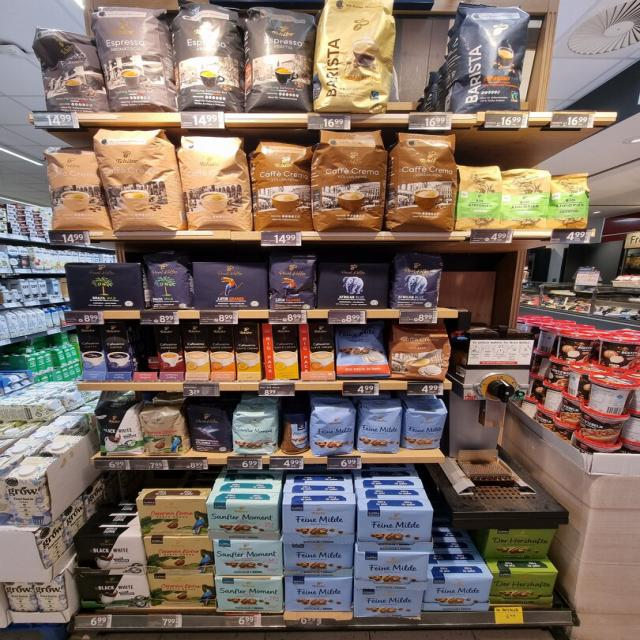AB Bohne: (392, 252, 442, 310)
AB Gemahlen: (317, 262, 393, 310)
Athiopien Bohne: (551, 172, 593, 230)
Athiopien Gemahlen: (500, 166, 550, 232), (457, 163, 501, 236)
BM Bohne: (142, 249, 194, 311)
BM Gemahlen: (63, 262, 145, 310)
BW Bohne: (92, 407, 145, 457)
BW Gemahlen: (73, 571, 153, 610), (72, 536, 148, 571)
Barista CB: (312, 0, 398, 116)
Barista Espresso: (452, 3, 532, 113)
C Fino Bohne: (183, 408, 232, 456)
CC Mild: (86, 129, 187, 232), (173, 133, 255, 233), (44, 144, 112, 232)
CC Vollmundig: (387, 323, 454, 382)
CC Vollmundig 36 Pads: (312, 130, 388, 234), (386, 130, 458, 234), (247, 141, 315, 234)
Colombia BB Bohne: (136, 408, 190, 458)
Colombia BB Gemahlen: (135, 498, 209, 536), (141, 536, 213, 574), (146, 573, 217, 608)
Empty Shelf: (130, 326, 161, 381)
Espresso Aromatisch: (88, 5, 178, 114)
Espresso Kraftig: (170, 1, 244, 112), (241, 6, 315, 114)
FM 36 Pads: (336, 327, 391, 382)
FM Bohne: (356, 402, 404, 456), (312, 401, 356, 457), (402, 408, 450, 451)
FM Gemahlen: (356, 510, 434, 552), (353, 550, 428, 590), (280, 502, 358, 540), (282, 574, 354, 611), (282, 540, 354, 574), (424, 576, 492, 610), (352, 586, 422, 618)
FM Instant: (277, 404, 311, 454)
Herzhatfe Mundig: (486, 571, 561, 606), (480, 529, 559, 560)
LG Bohne: (268, 254, 318, 312)
LG Gemahlen: (191, 262, 269, 312)
SM Bohne: (230, 408, 277, 457)
SM Gemahlen: (212, 537, 284, 576), (213, 576, 286, 614), (206, 501, 282, 537)
Simo CCMild: (260, 324, 300, 381)
Simo CCMild bigpack: (235, 323, 264, 382)
Simo CCVollmundig: (298, 324, 336, 381)
Simo CCVollmundig bigpack: (205, 323, 238, 382)
Simo Decaff: (180, 324, 211, 382)
Simo Es Kraft: (157, 325, 187, 382)
Simo Kaffee Kraft: (101, 320, 135, 382)
Simo Kaffee Mild: (73, 326, 107, 382)
